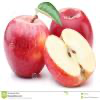Apple leaf: (34, 1, 66, 25)
